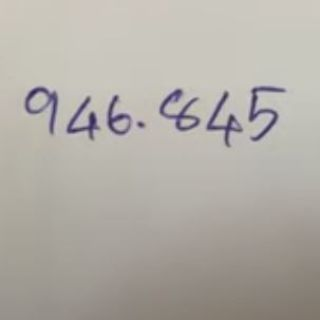.: (133, 116, 148, 131)
4: (204, 89, 245, 149), (64, 94, 103, 141)
5: (246, 83, 289, 143)
6: (106, 94, 134, 136)
8: (158, 87, 202, 133)
9: (23, 85, 59, 137)
